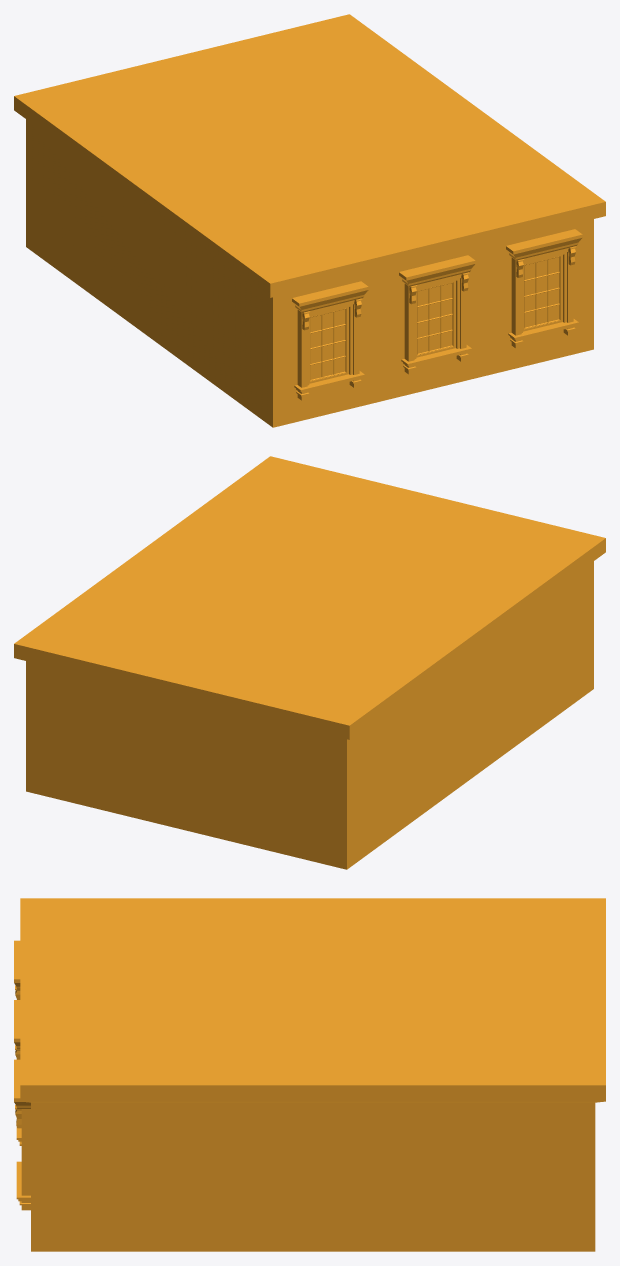
Rendered from SM_Floor_Mid_Square_Win_F_Steampunk.fbx.
3 renders of one model, top to bottom at view 1: azimuth 30°, elevation 25°; view 2: azimuth 150°, elevation 25°; view 3: azimuth 270°, elevation 25°, orthographic. The views are drawn at different scales.
Visible parts, largest first — view 1: floor-mid-square-win-f-steampunk; view 2: floor-mid-square-win-f-steampunk; view 3: floor-mid-square-win-f-steampunk.
Boxes of the visible parts, left/top/right/bottom form: floor-mid-square-win-f-steampunk: left=14, top=14, right=605, bottom=427; floor-mid-square-win-f-steampunk: left=14, top=456, right=605, bottom=869; floor-mid-square-win-f-steampunk: left=14, top=898, right=605, bottom=1251.
Size of the model in its own units: 9.41 by 4 by 12.59.
